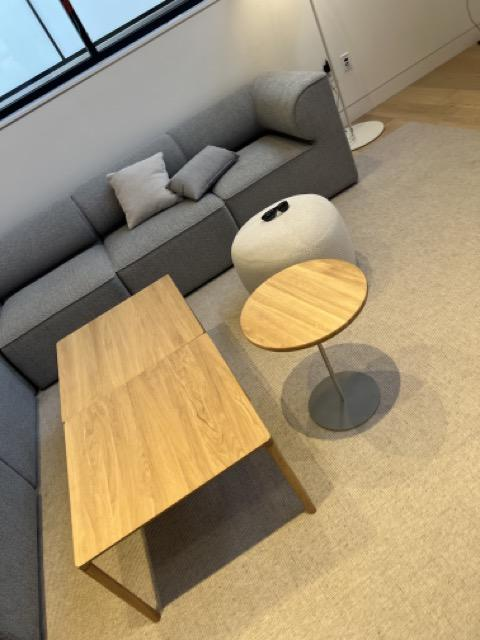Sunglasses: (261, 201, 289, 222)
